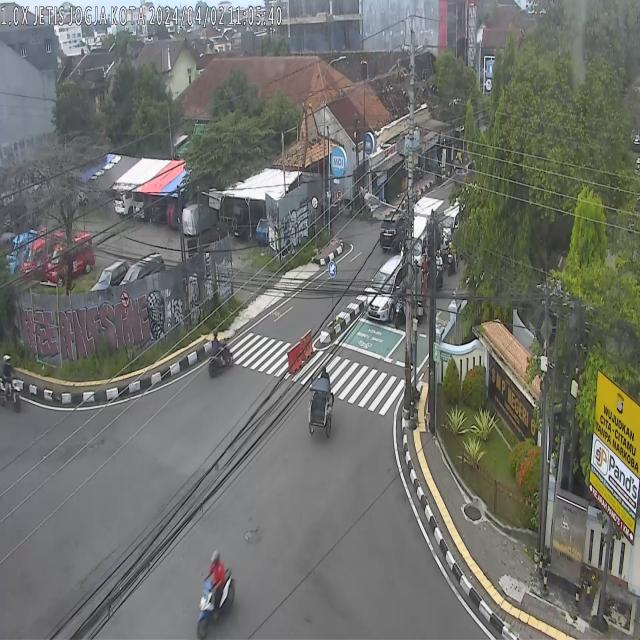car: (365, 255, 408, 323), (381, 210, 406, 250), (443, 207, 462, 252)
motorcycle: (196, 547, 235, 640), (207, 326, 234, 379), (0, 351, 22, 416), (394, 283, 406, 326), (447, 235, 459, 277), (434, 249, 444, 292)
truck: (401, 196, 444, 268)
